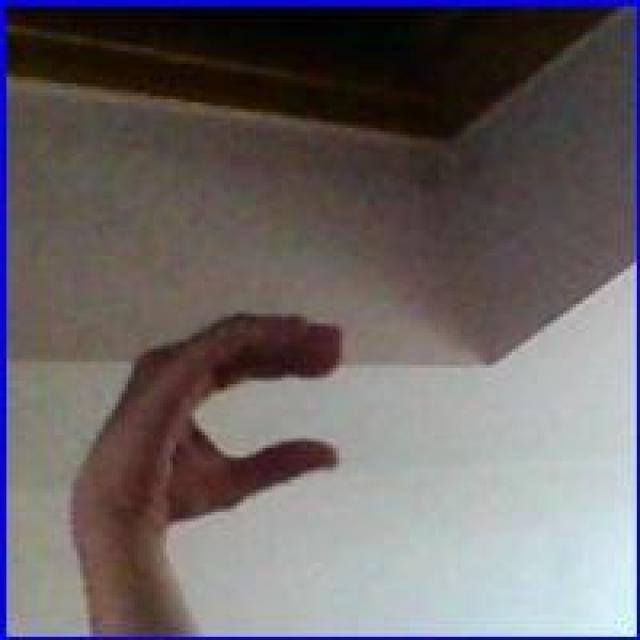C: (54, 307, 356, 528)
